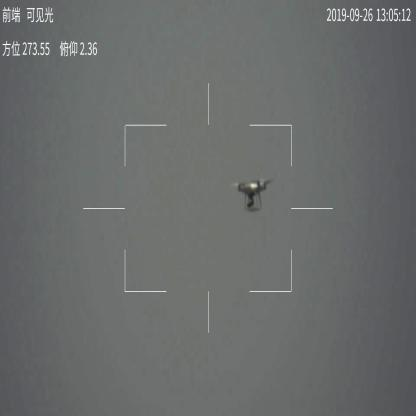uav: (231, 177, 272, 212)
